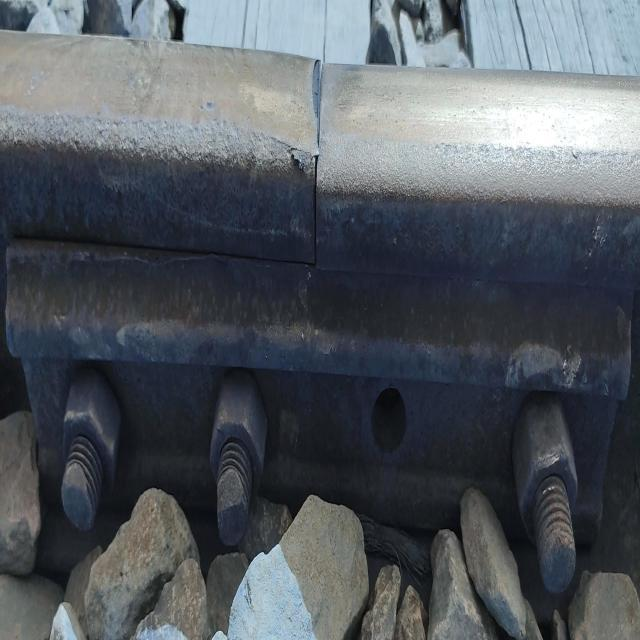head_checks_low: (278, 137, 312, 183), (310, 54, 322, 130)
